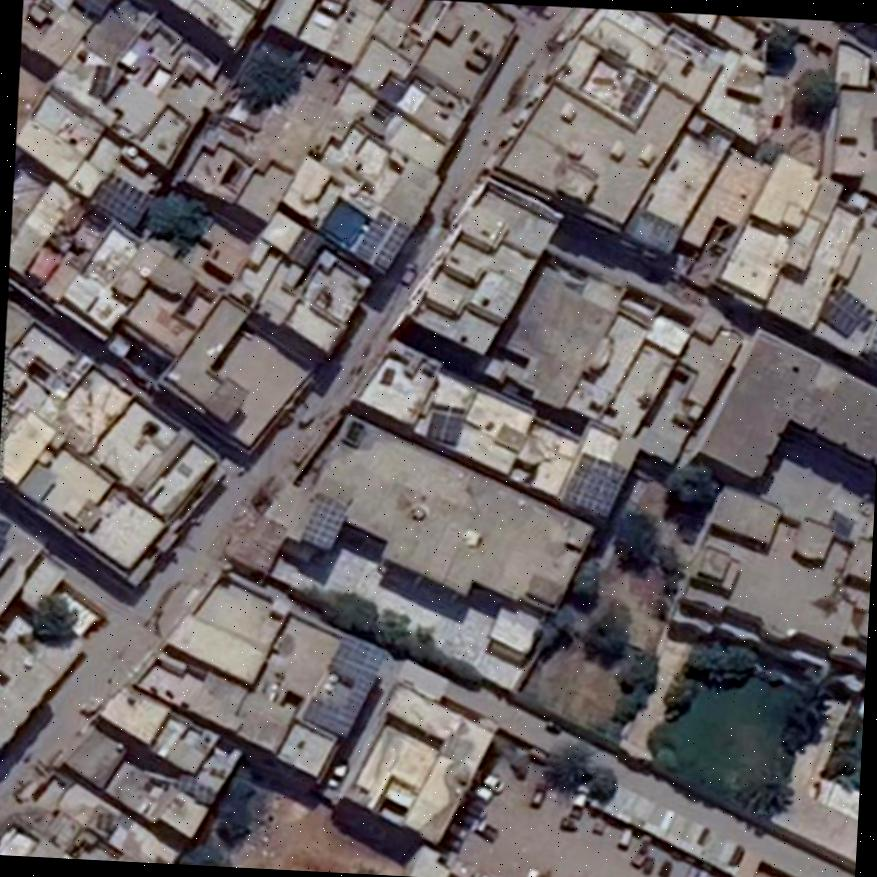Solarpanel: (303, 632, 382, 735), (564, 453, 624, 517), (353, 210, 411, 270), (90, 171, 146, 223), (820, 288, 871, 336), (300, 495, 347, 544), (428, 413, 461, 444), (624, 77, 649, 109), (871, 116, 877, 149)
